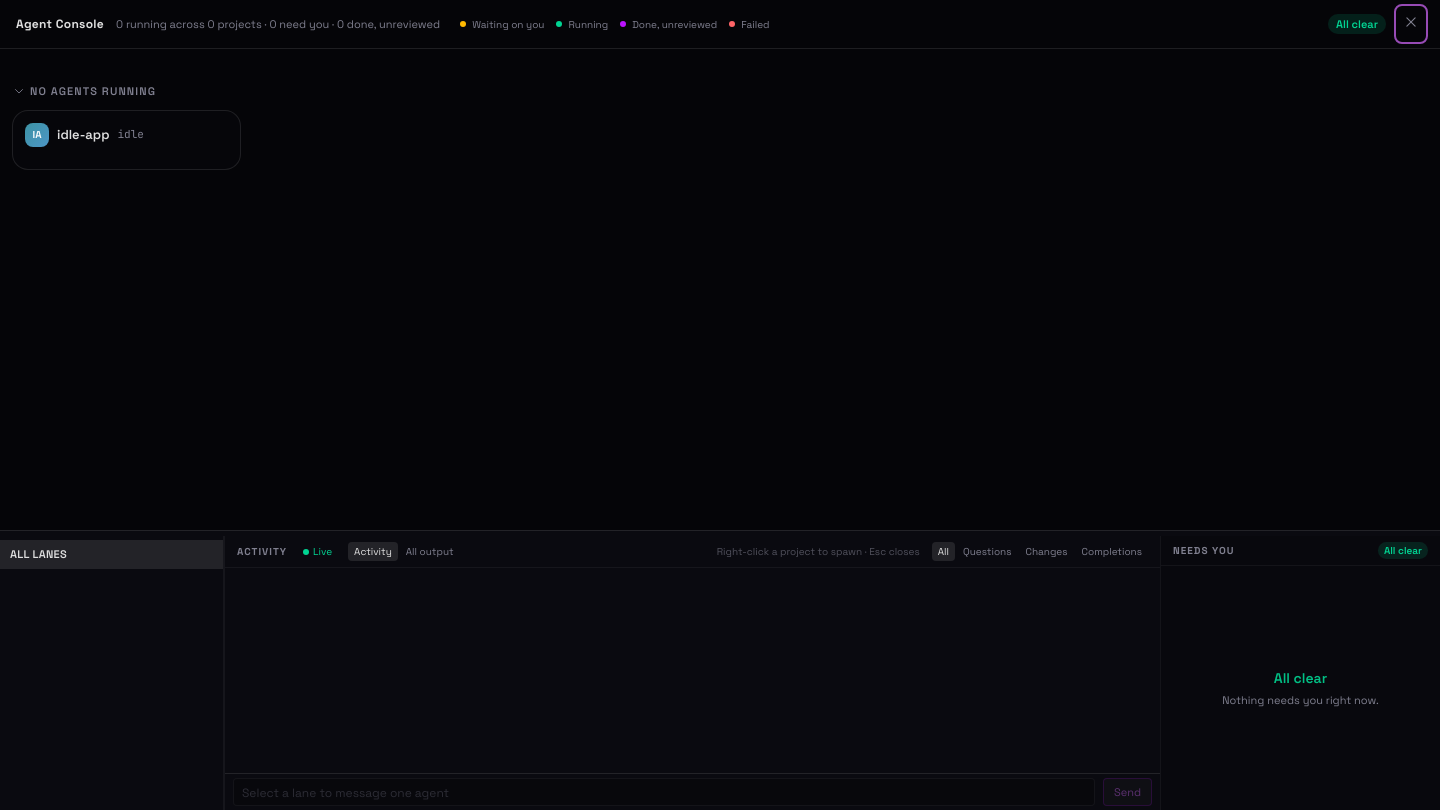
Test case: AgentConsole idle project list › folds the list away and leaves its heading to bring it back
The width and height of the screenshot is (1440, 810).
Click the button "No agents running" at (84, 91), box [8,81,160,102]
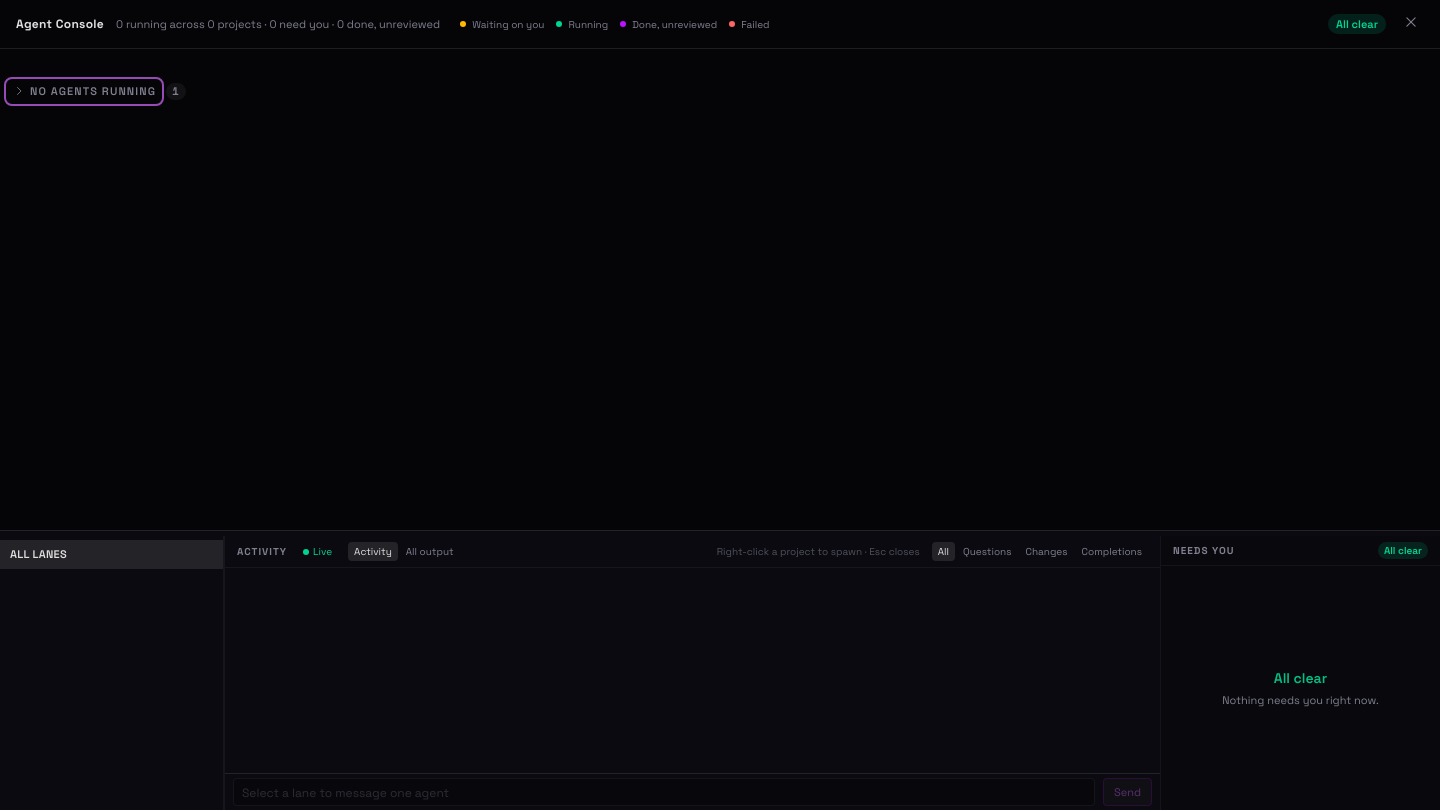
Expected: the element with test id "project-section-/repos/idle-app" is gone
Expected: the button "No agents running" is collapsed
Click the button "No agents running" at (84, 91), box [8,81,160,102]
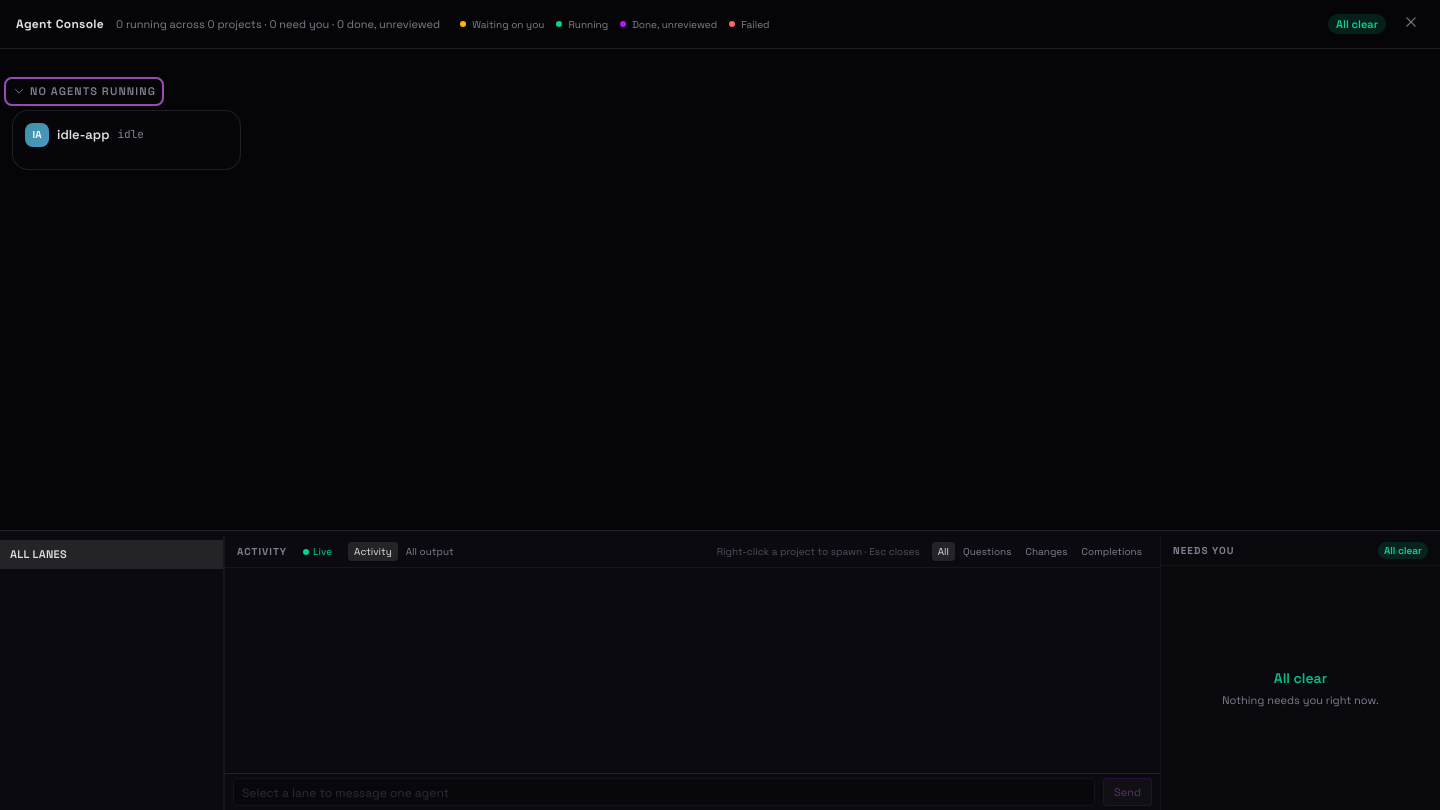
Expected: the element with test id "project-section-/repos/idle-app" is shown, [12,110,241,170]
